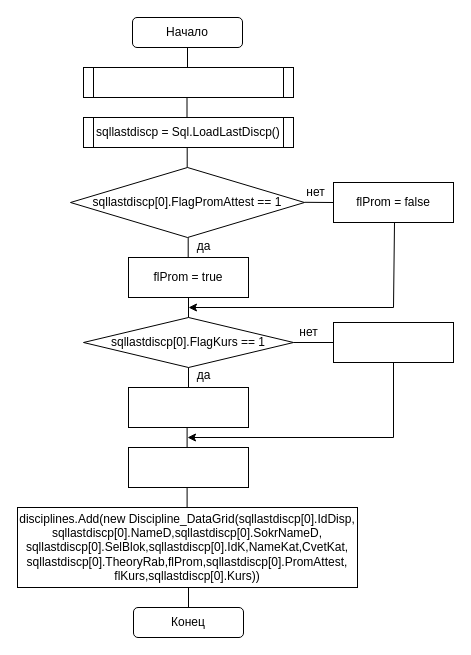
This 471x655 diagram has some shape labels left out. Here are the shapes that lost their labels. From the top down, the centre of each, then its label:
point 188,82: Sql.AddDiscp()
point 393,342: flKurs = false
point 188,407: flKurs = true
point 188,467: NameKat = "..." CvetKat = "#FFFFFF"
